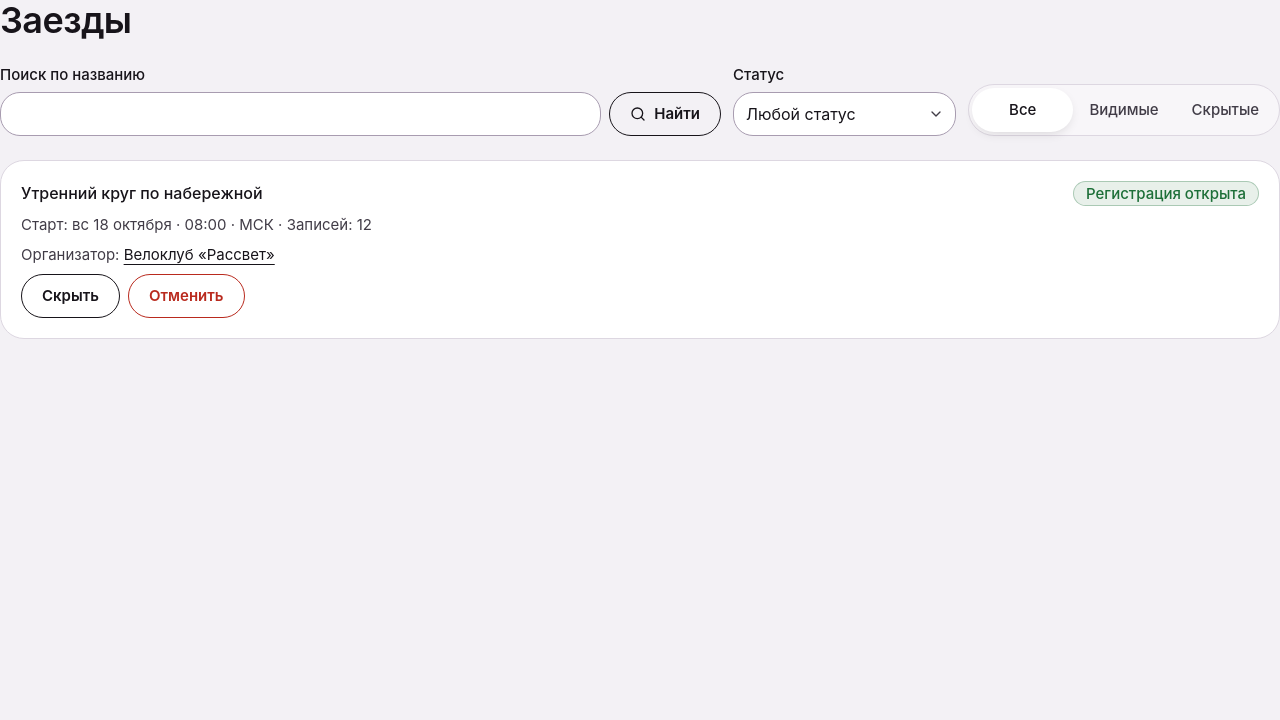
Test case: AdminRidesList › cancels a ride and explains a refused cancellation
This screenshot has width=1280, height=720.
Click the button "Отменить" at [186, 296], box x1=128 y1=274 x2=244 y2=318
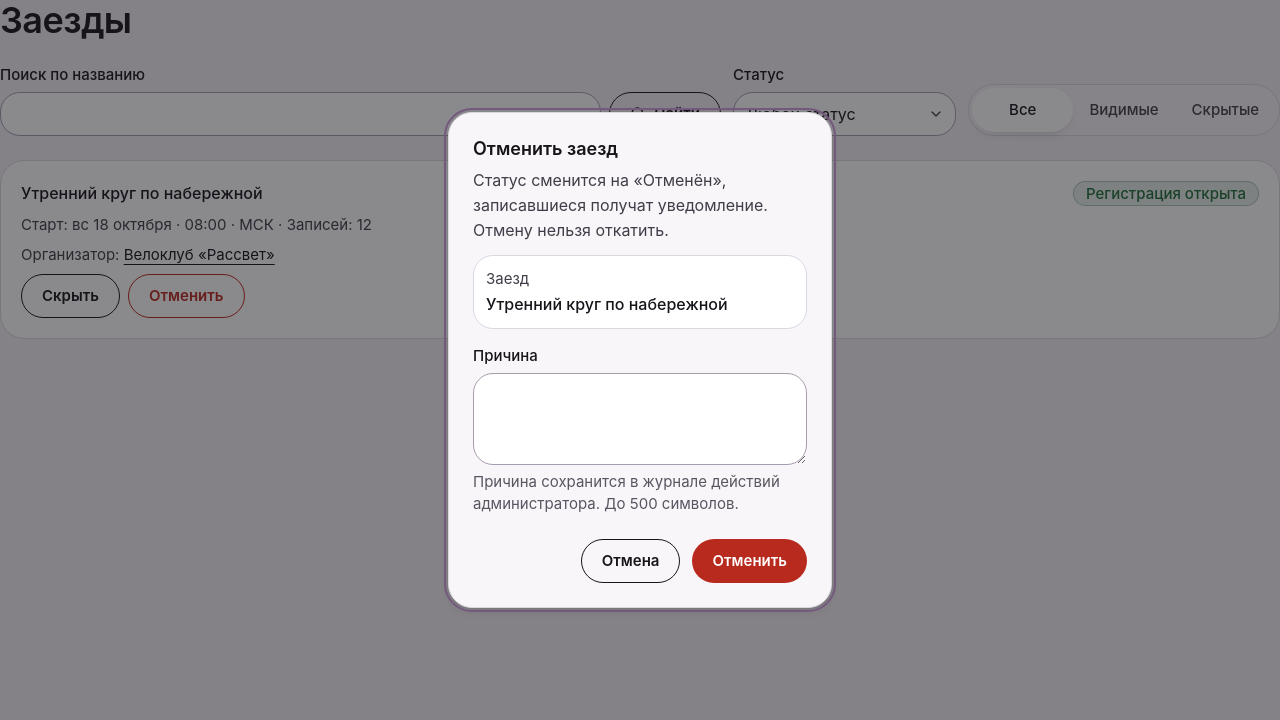
Type "Организатор пропал" into the text box labelled "Причина" at [640, 419], box x1=473 y1=373 x2=807 y2=466
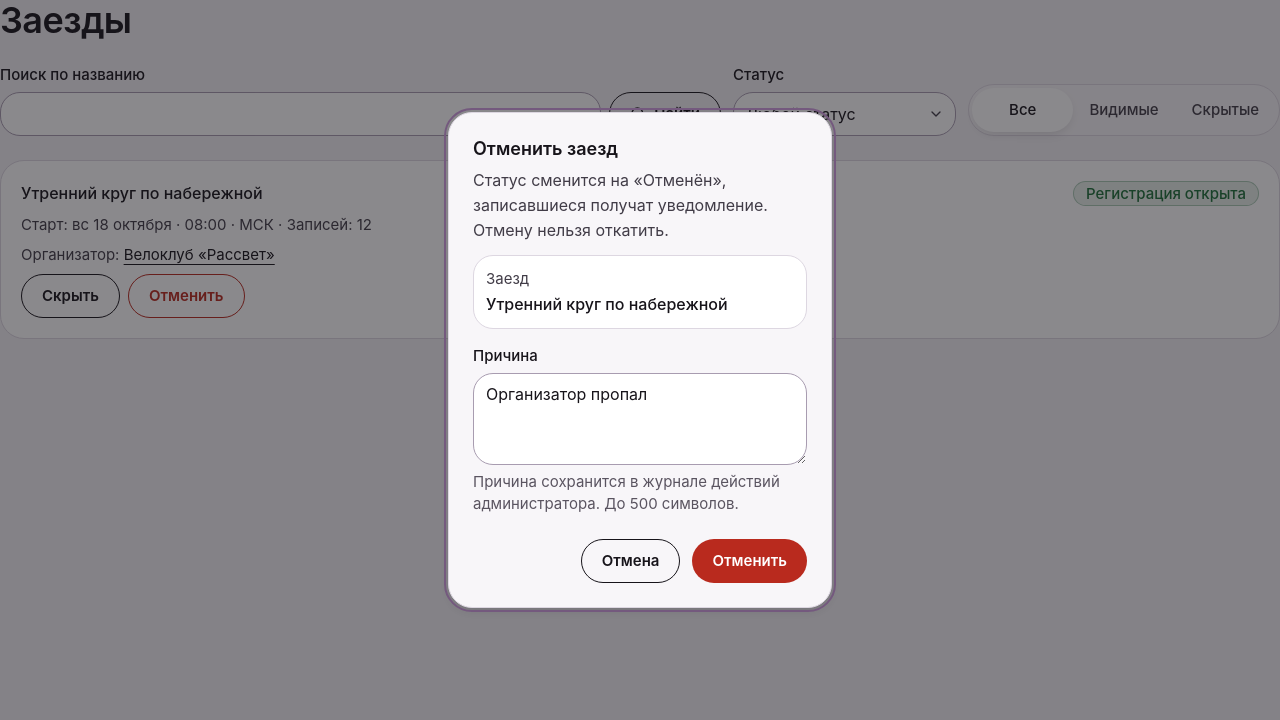
Click the button "Отменить" at [750, 561], box x1=692 y1=539 x2=807 y2=583
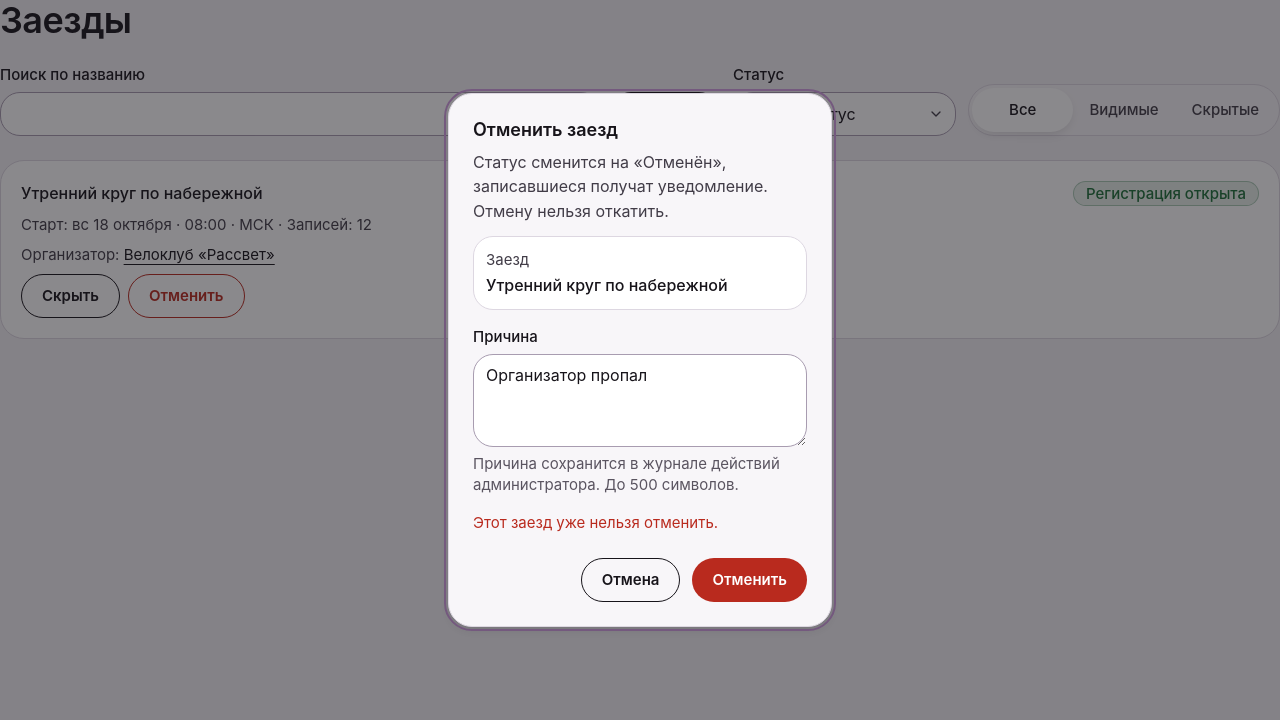
Check: the text "Этот заезд уже нельзя отменить." is shown, box x1=473 y1=513 x2=718 y2=532
Click the button "Отменить" at [750, 580], box x1=692 y1=558 x2=807 y2=602
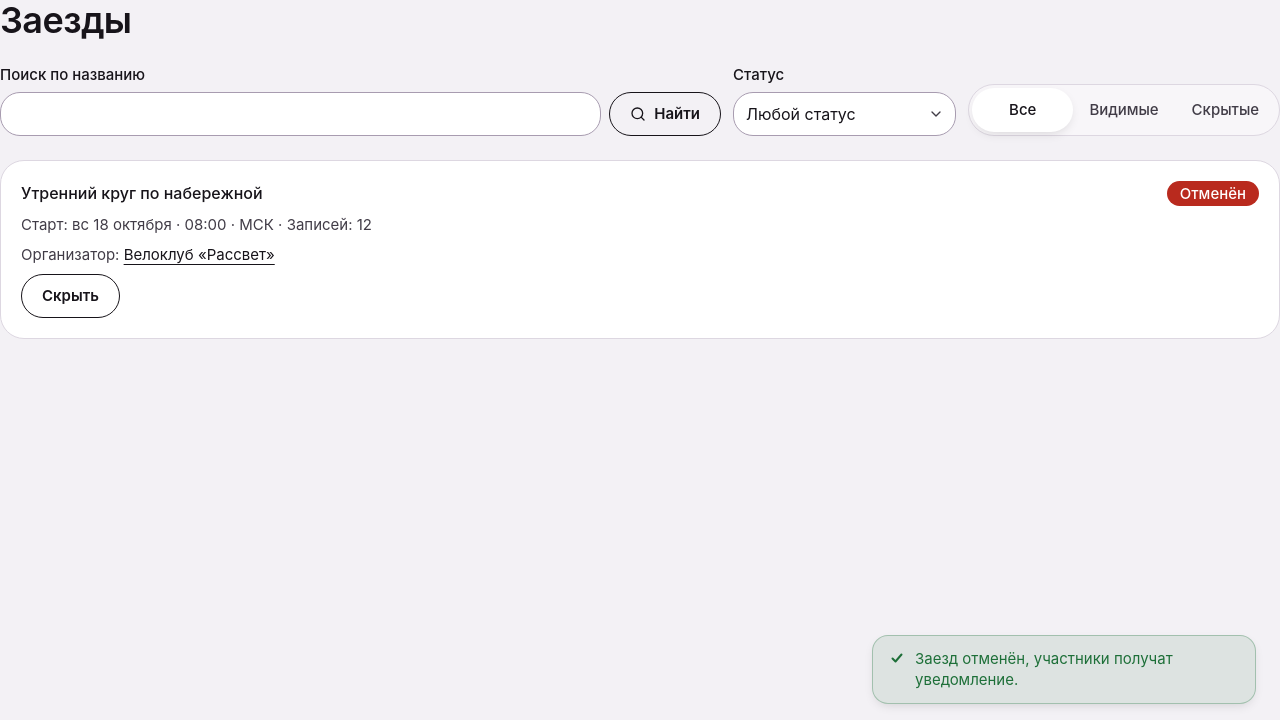
Check: the text "Заезд отменён, участники получат уведомление." is shown, box x1=915 y1=648 x2=1173 y2=689
Check: the dialog is gone
Check: the text "Отменён" is shown, box x1=1167 y1=181 x2=1259 y2=206
